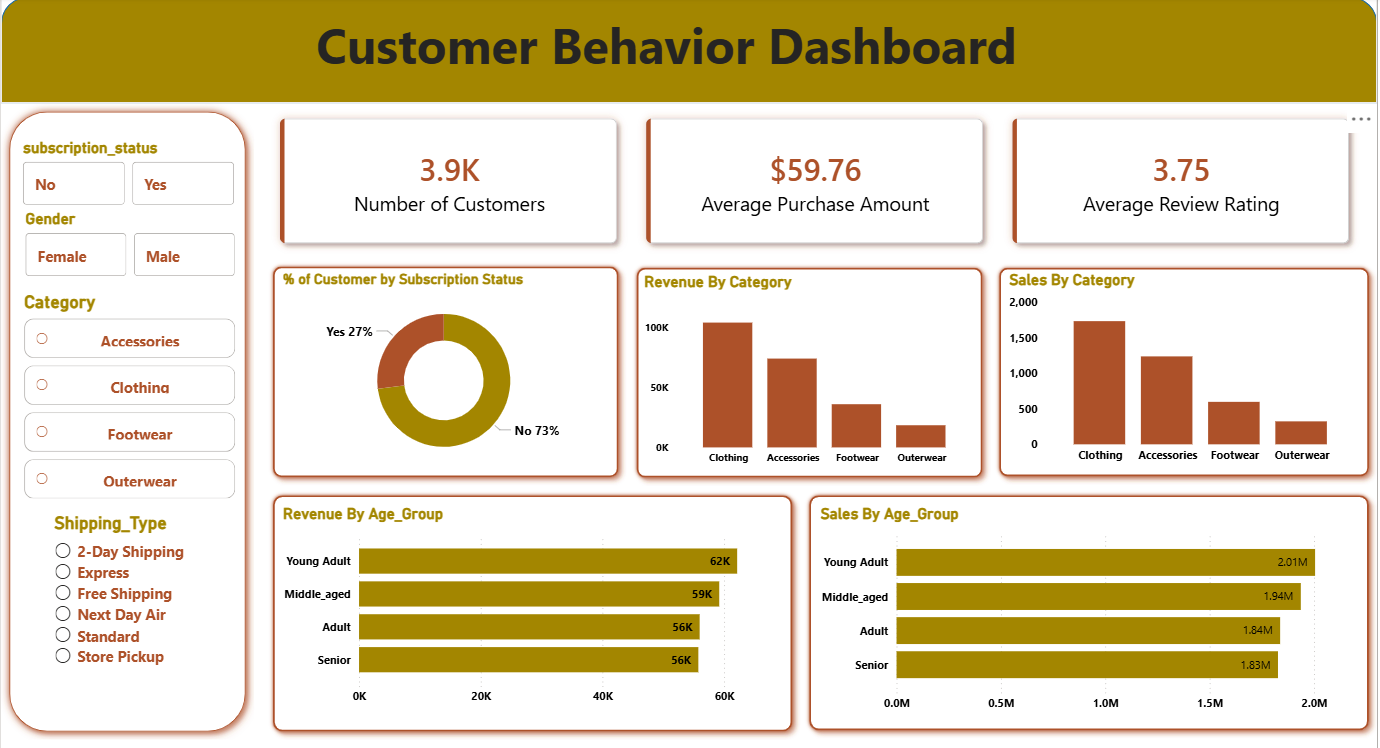

The page's visual inventory and layout, read from the dashboard file:
{"tool":"powerbi","page":{"name":"Page 1","canvas":[1500,820],"ordinal":0},"visuals":[{"type":"cardVisual","fields":{"Data":["sfd.Number of Customers","sfd.Average Purchase Amount","sfd.Average Review Rating"]},"box":[275.7,104.2,1224.7,194.7],"z":0},{"type":"shape","box":[0,0,1500.3,115.8],"z":1000},{"type":"shape","box":[288,284.4,394.7,247.7],"z":3000},{"type":"donutChart","title":"% of Customer by Subscription Status","fields":{"Category":["sfd.subscription_status"],"Y":["CountNonNull(sfd.customer_id)"]},"box":[303.1,299,360.7,219.4],"z":4000},{"type":"shape","box":[684.3,286.6,395,246.9],"z":5000},{"type":"shape","box":[1079.3,286.6,421,245.5],"z":6000},{"type":"clusteredColumnChart","title":"Revenue By Category","fields":{"Y":["Sum(sfd.purchase_amount)"],"Category":["sfd.category"]},"box":[696.7,300.3,368.9,219.4],"z":7000},{"type":"clusteredColumnChart","title":"Sales By Category","fields":{"Category":["sfd.category"],"Y":["CountNonNull(sfd.customer_id)"]},"box":[1094.4,299,388.1,219.4],"z":8000},{"type":"shape","box":[0,115.2,275.7,693.9],"z":9000},{"type":"advancedSlicerVisual","fields":{"Values":["sfd.subscription_status"]},"box":[19.2,153.6,240,78.2],"z":10000},{"type":"advancedSlicerVisual","fields":{"Values":["sfd.gender"]},"box":[21.9,231.8,238.6,78.2],"z":11000},{"type":"advancedSlicerVisual","fields":{"Values":["sfd.category"]},"box":[20.6,320.9,240,231.8],"z":12000},{"type":"listSlicer","fields":{"Values":["sfd.shipping_type"]},"box":[53.5,562.3,174.2,224.9],"z":13000},{"type":"shape","box":[288,533.5,584.2,275.7],"z":14000},{"type":"clusteredBarChart","title":"Revenue By Age_Group","fields":{"Y":["Sum(sfd.purchase_amount)"],"Category":["sfd.age_group"]},"box":[303.1,552.7,547.2,227.7],"z":15000},{"type":"shape","box":[872.2,533.5,628.1,274.3],"z":16000},{"type":"clusteredBarChart","title":"Sales By Age_Group","fields":{"Category":["sfd.age_group"],"Y":["Sum(sfd.customer_id)"]},"box":[888.7,552.7,593.8,234.5],"z":17000},{"type":"textbox","box":[275.3,10.9,900.7,92.7],"z":17001}]}

Visuals, with their boxes in screenshot pixels (x1, y1, x2, y2), scaled from the page's 1500x820 canvas onto the 1380x748 screenshot:
cardVisual - sfd.Number of Customers x sfd.Average Purchase Amount: region(254, 95, 1379, 273)
shape: region(0, 0, 1379, 106)
shape: region(265, 259, 628, 485)
"% of Customer by Subscription Status" donutChart: region(279, 273, 611, 473)
shape: region(630, 261, 993, 487)
shape: region(993, 261, 1379, 485)
"Revenue By Category" clusteredColumnChart: region(641, 274, 980, 474)
"Sales By Category" clusteredColumnChart: region(1007, 273, 1364, 473)
shape: region(0, 105, 254, 738)
advancedSlicerVisual - sfd.subscription_status: region(18, 140, 238, 211)
advancedSlicerVisual - sfd.gender: region(20, 211, 240, 283)
advancedSlicerVisual - sfd.category: region(19, 293, 240, 504)
listSlicer - sfd.shipping_type: region(49, 513, 209, 718)
shape: region(265, 487, 802, 738)
"Revenue By Age_Group" clusteredBarChart: region(279, 504, 782, 712)
shape: region(802, 487, 1379, 737)
"Sales By Age_Group" clusteredBarChart: region(818, 504, 1364, 718)
textbox: region(253, 10, 1082, 95)
